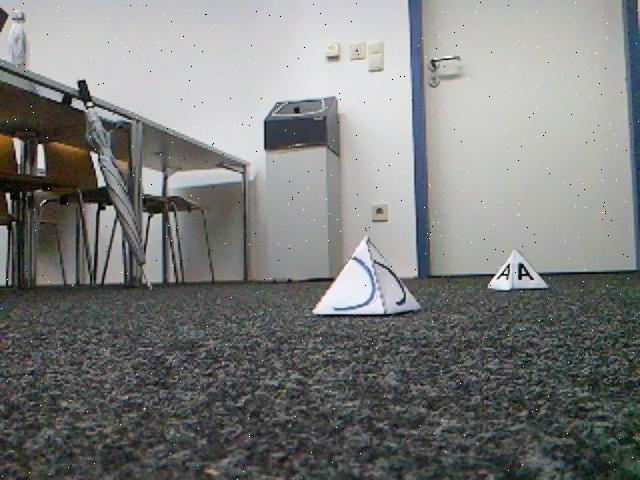A: (490, 251, 546, 293)
C: (311, 237, 418, 319)
